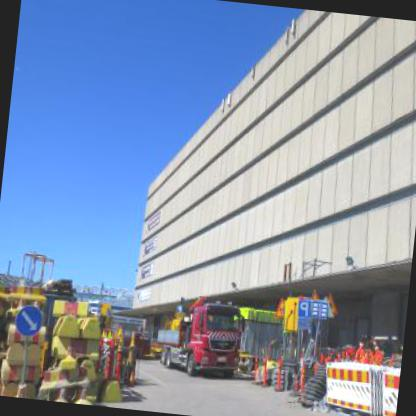truck: (154, 289, 249, 382), (104, 310, 156, 362)
